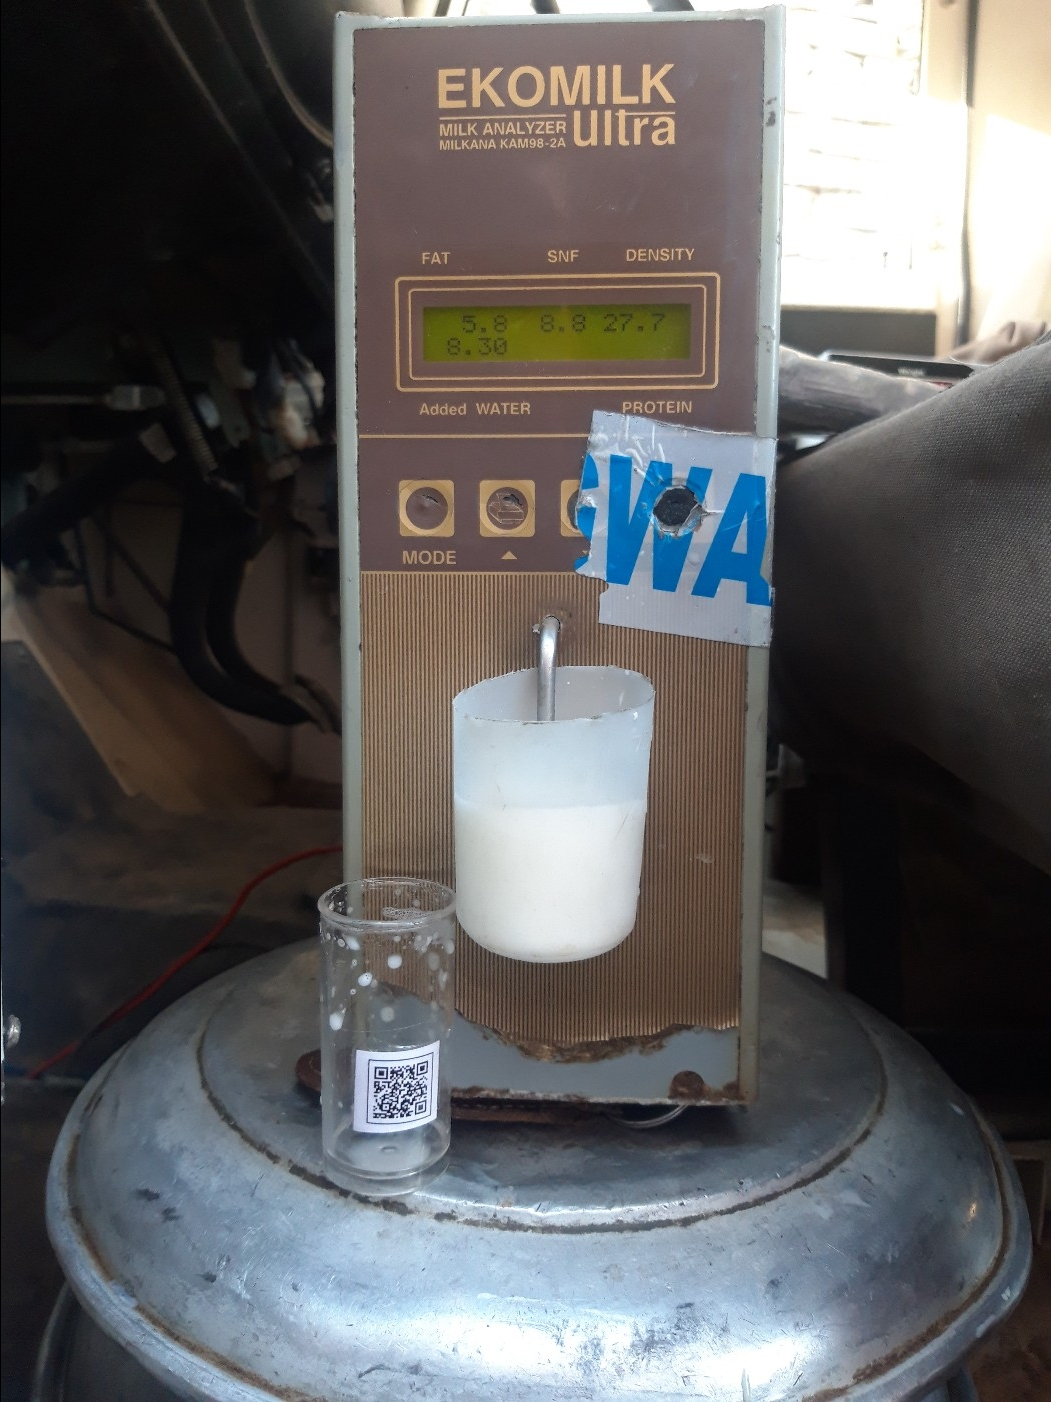lcd: (414, 293, 697, 375)
qr: (354, 1058, 445, 1128)
